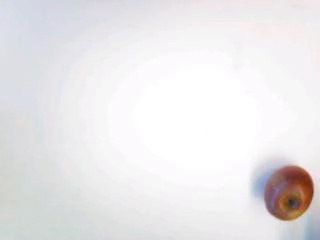apple: (264, 161, 315, 221)
